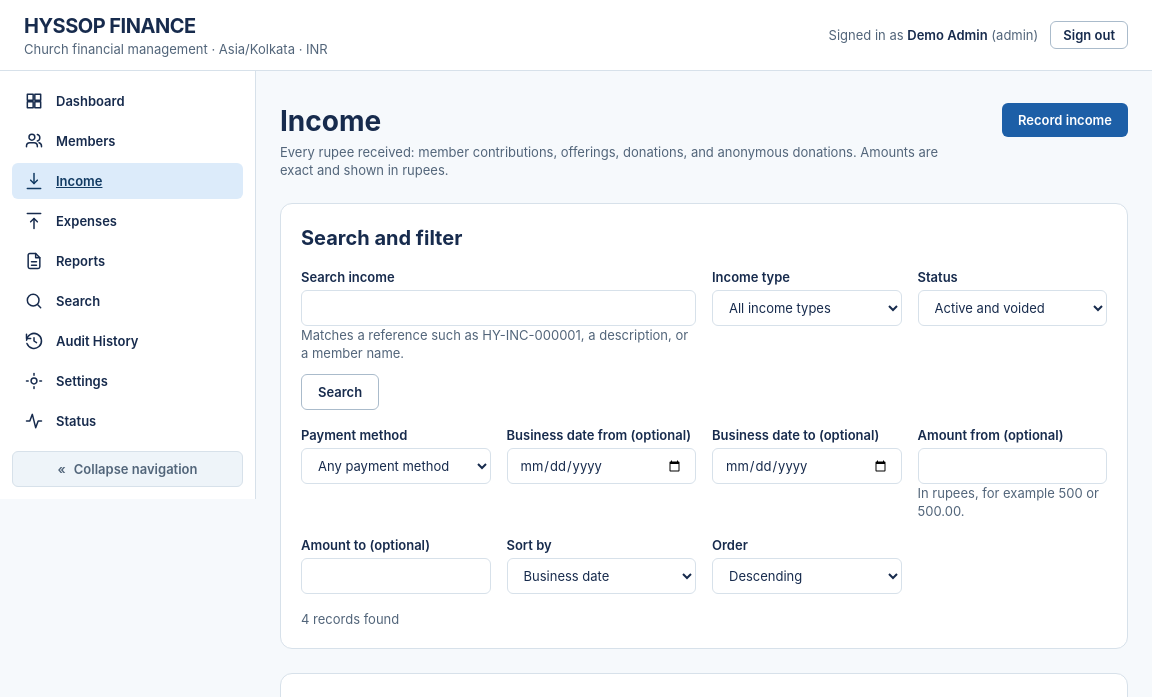
Scenario: searching and filtering income › searches by member name as well as by reference
Type "Benedict" into the search field labelled "Search income" at (498,308), box top-left (301, 290), bottom-right (696, 326)
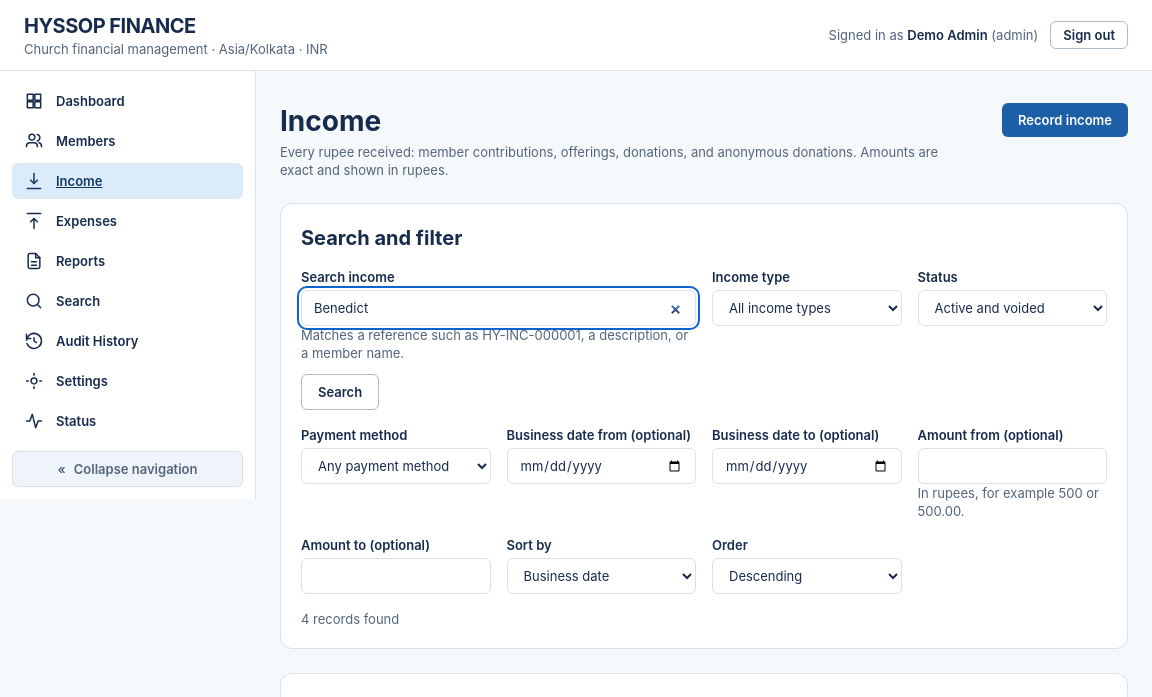
Click the button "Search" at (340,392), box top-left (301, 374), bottom-right (379, 410)
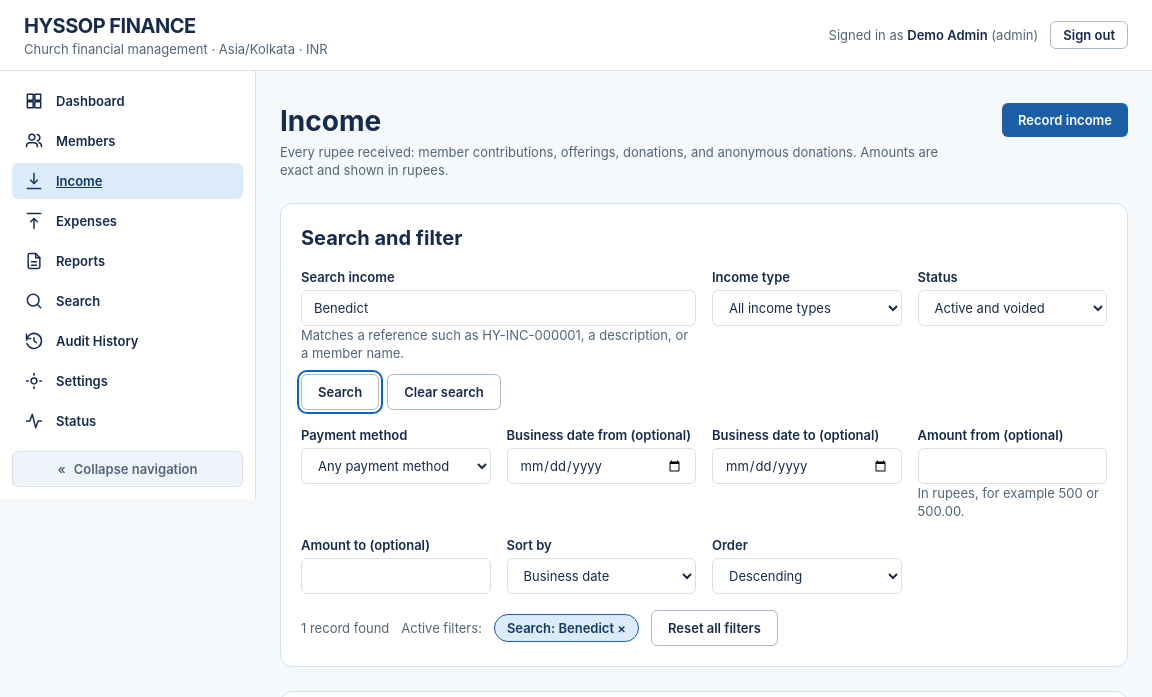
Expected: the text with test id "result-count" reads "1 record found", top-left (301, 620), bottom-right (389, 636)
